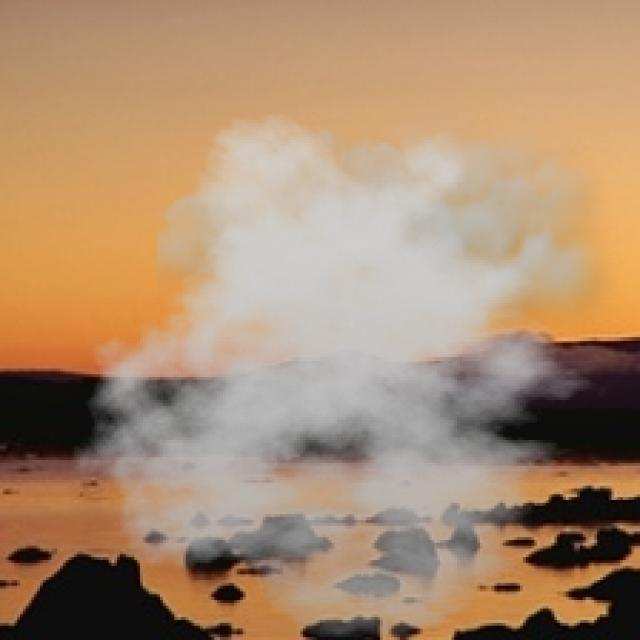Smoke: (71, 97, 632, 637)
